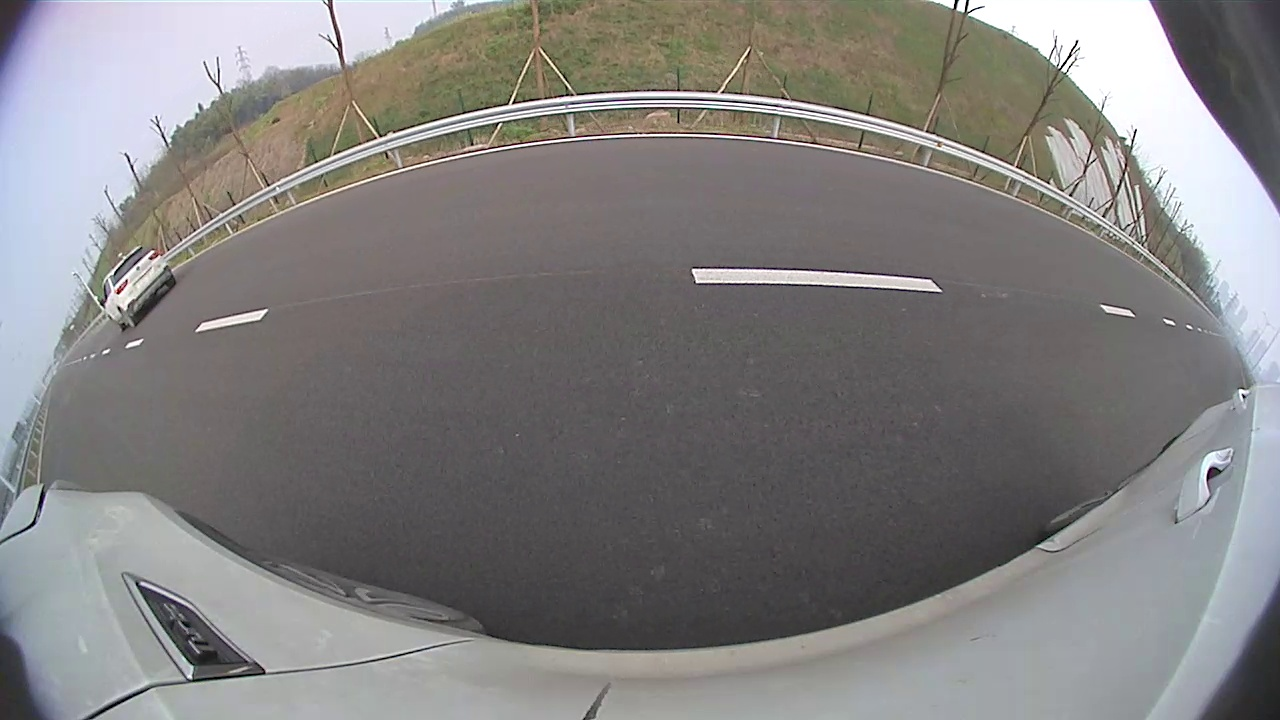car: (99, 246, 175, 330)
rear: (117, 307, 136, 328)
